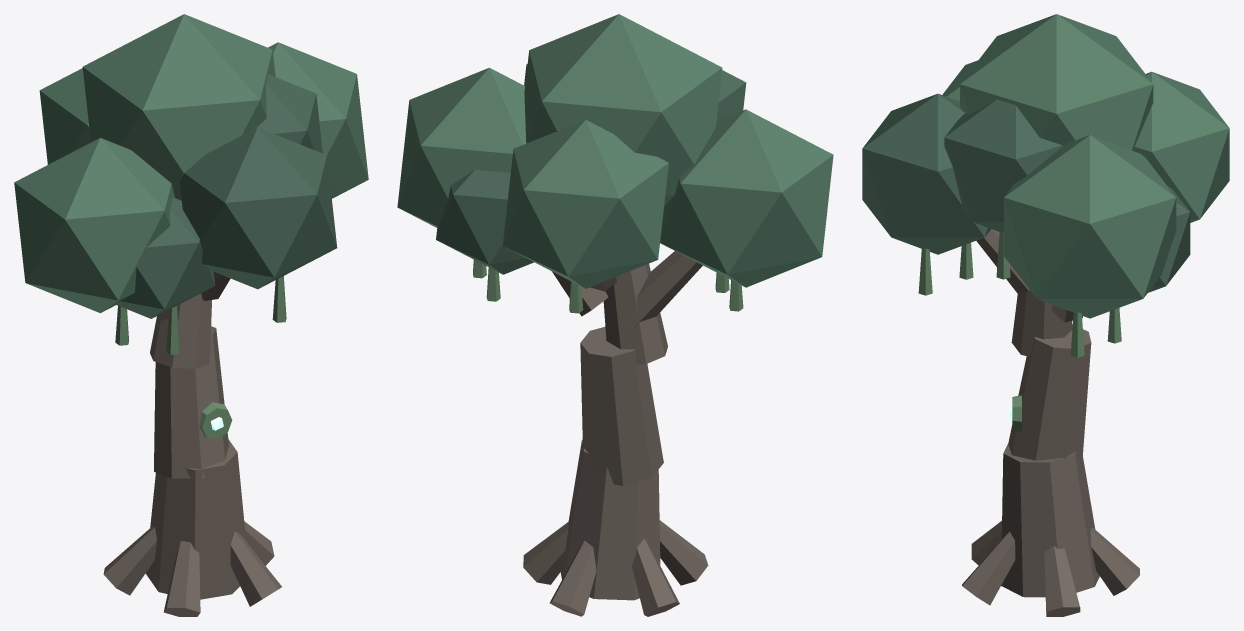
The model's file is outdoor_tree.glb.
The picture shows the model from 3 angles, left to right: view 1: azimuth 30°, elevation 25°; view 2: azimuth 150°, elevation 25°; view 3: azimuth 270°, elevation 25°; orthographic projection. The views are drawn at different scales.
Visible parts, largest first — view 1: Outdoor_Tree; view 2: Outdoor_Tree; view 3: Outdoor_Tree.
Part boxes in pixels (x1,y1,x2,y2): Outdoor_Tree: [14, 14, 368, 616]; Outdoor_Tree: [397, 14, 833, 616]; Outdoor_Tree: [862, 14, 1229, 616].
Bounding box in the file's own units: 6 × 8.94 × 5.2.
